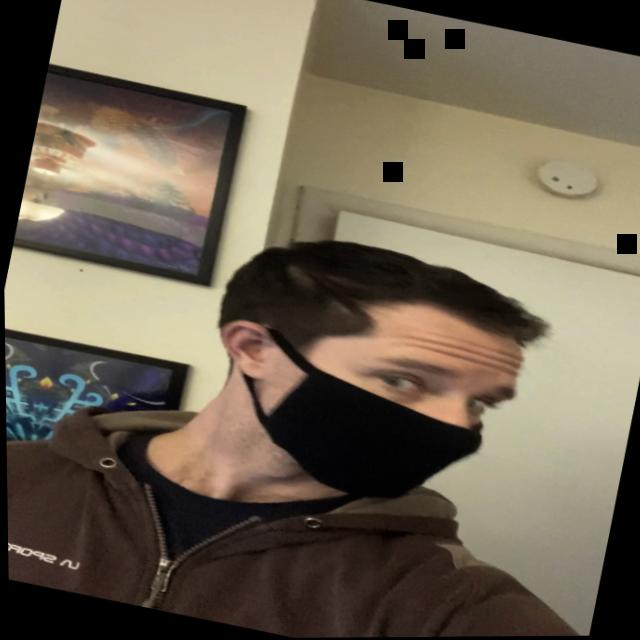Mask: (184, 245, 538, 545)
